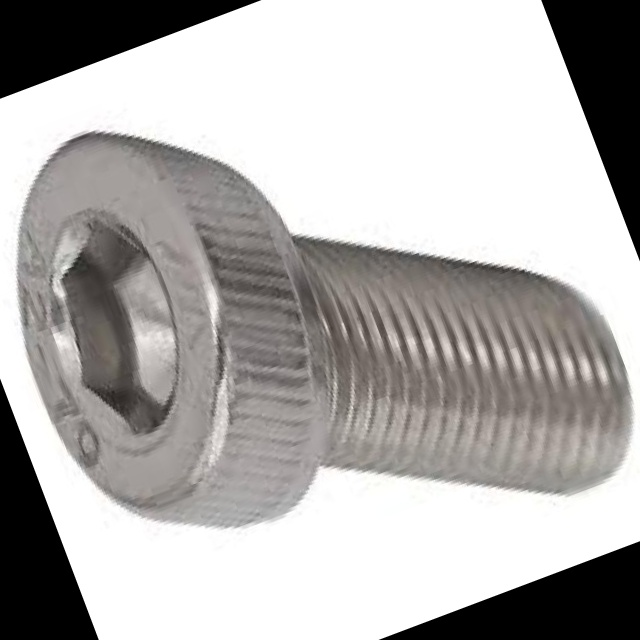allen: (0, 112, 285, 541)
